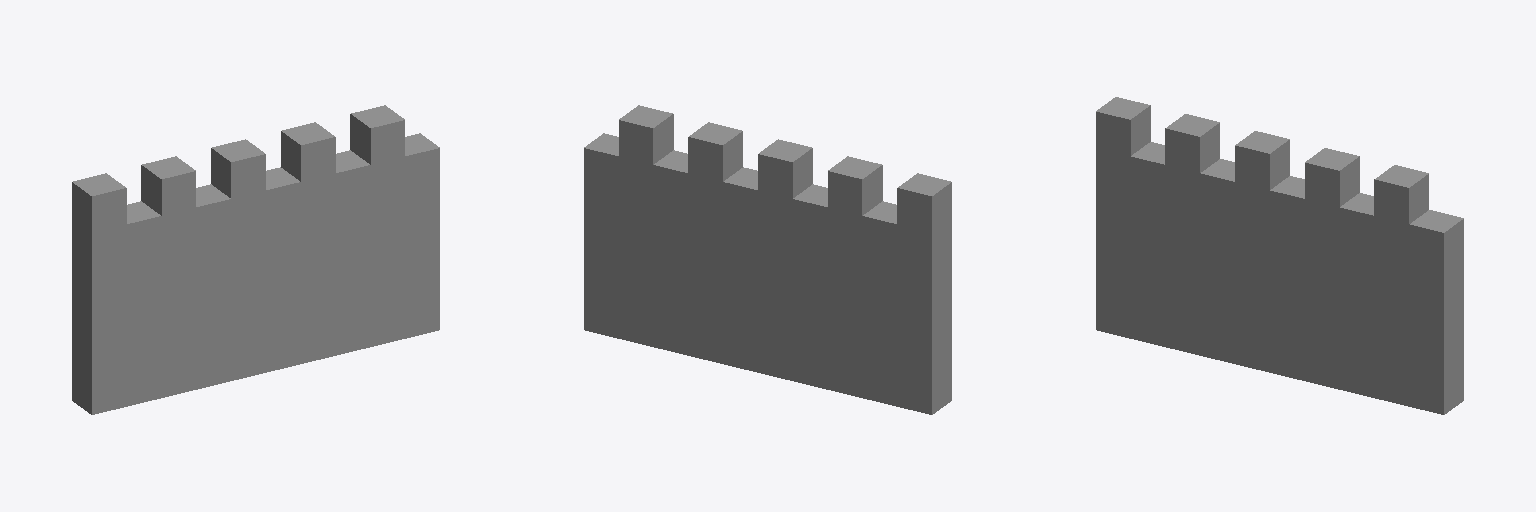
The model's file is Wall.obj.
The picture shows the model from 3 angles: view 1: azimuth 30°, elevation 25°; view 2: azimuth 150°, elevation 25°; view 3: azimuth 330°, elevation 25°; orthographic projection.
Parts seen in each view (by area): view 1: Cube.001_Cube.002; view 2: Cube.001_Cube.002; view 3: Cube.001_Cube.002.
Boxes of the visible parts, box(x1,y1,x2,y2) form: Cube.001_Cube.002: box(72, 105, 439, 414); Cube.001_Cube.002: box(584, 105, 951, 414); Cube.001_Cube.002: box(1096, 97, 1463, 414).
Bounding box in the file's own units: 20 × 12 × 2.